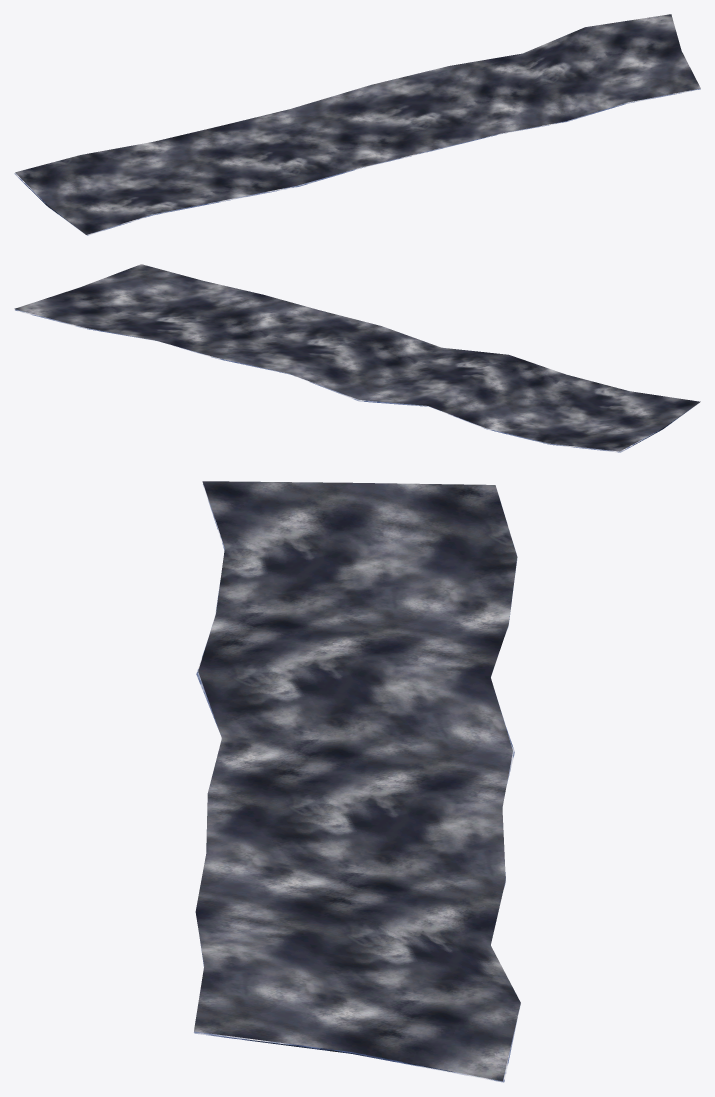
The model's file is LONE_MOUNTAIN_WATERFALLS_MAINWATER_TREASURY04.fbx.
3 renders of one model, top to bottom at view 1: azimuth 30°, elevation 25°; view 2: azimuth 150°, elevation 25°; view 3: azimuth 270°, elevation 25°, orthographic. The views are drawn at different scales.
Parts seen in each view (by area): view 1: LONE_MOUNTAIN_WATERFALLS_MAINWATER_TREASURY04; view 2: LONE_MOUNTAIN_WATERFALLS_MAINWATER_TREASURY04; view 3: LONE_MOUNTAIN_WATERFALLS_MAINWATER_TREASURY04.
Part boxes in pixels (x1,y1,x2,y2): LONE_MOUNTAIN_WATERFALLS_MAINWATER_TREASURY04: [14, 14, 700, 235]; LONE_MOUNTAIN_WATERFALLS_MAINWATER_TREASURY04: [14, 264, 700, 452]; LONE_MOUNTAIN_WATERFALLS_MAINWATER_TREASURY04: [194, 481, 520, 1082].
Bounding box in the file's own units: 149208 × 2073 × 34571.
2 materials, 2 textured.
